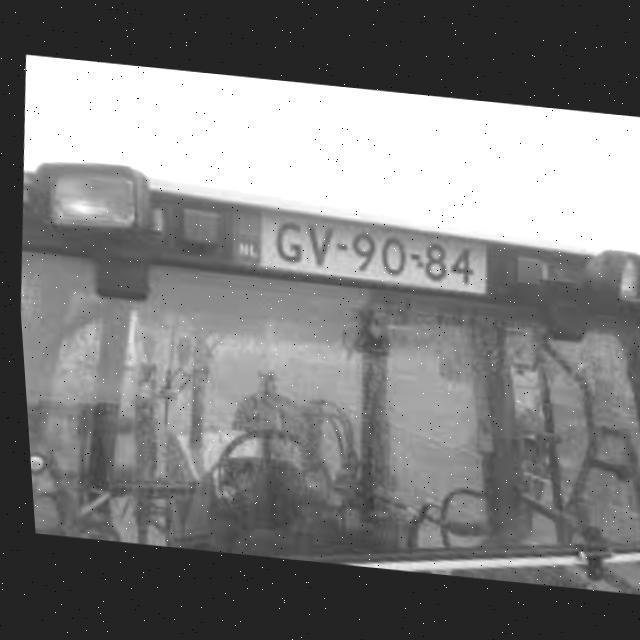license-plates: (236, 210, 490, 291)
